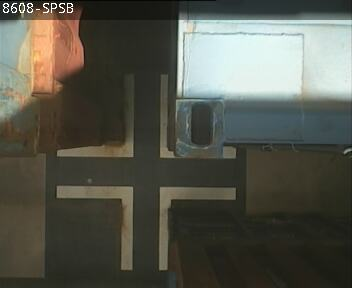groundmarker_1: (54, 184, 235, 269), (57, 78, 235, 156)
